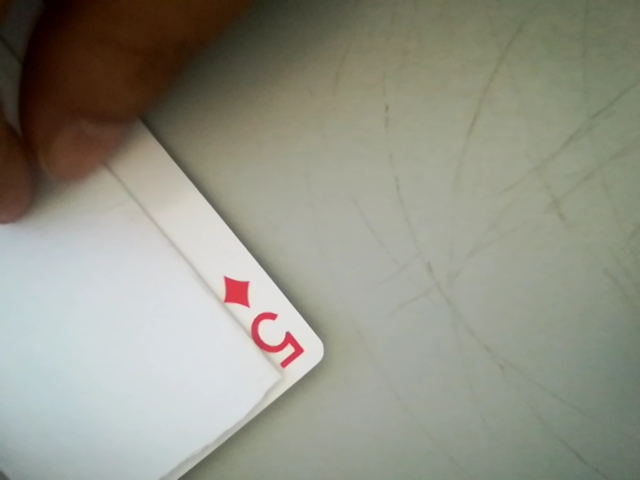fk 5: (210, 265, 322, 378)
